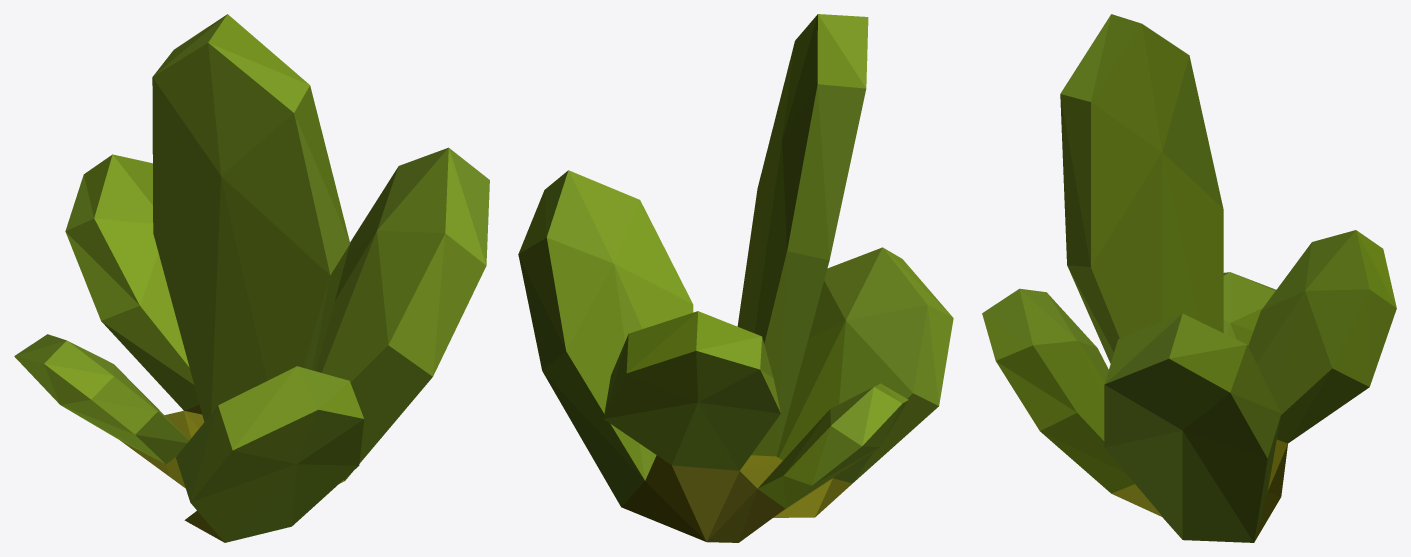
Rendered from cactus1.fbx.
The picture shows the model from 3 angles, left to right: view 1: azimuth 30°, elevation 25°; view 2: azimuth 150°, elevation 25°; view 3: azimuth 270°, elevation 25°; orthographic projection. The views are drawn at different scales.
Parts seen in each view (by area): view 1: Object Kharidian cactus (Healthy) 2024-03-16_08-18-36; view 2: Object Kharidian cactus (Healthy) 2024-03-16_08-18-36; view 3: Object Kharidian cactus (Healthy) 2024-03-16_08-18-36.
Part boxes in pixels (x1,y1,x2,y2): Object Kharidian cactus (Healthy) 2024-03-16_08-18-36: [14, 14, 489, 542]; Object Kharidian cactus (Healthy) 2024-03-16_08-18-36: [518, 14, 953, 542]; Object Kharidian cactus (Healthy) 2024-03-16_08-18-36: [982, 14, 1396, 542].
Bounding box in the file's own units: 12400 × 14800 × 12200.
